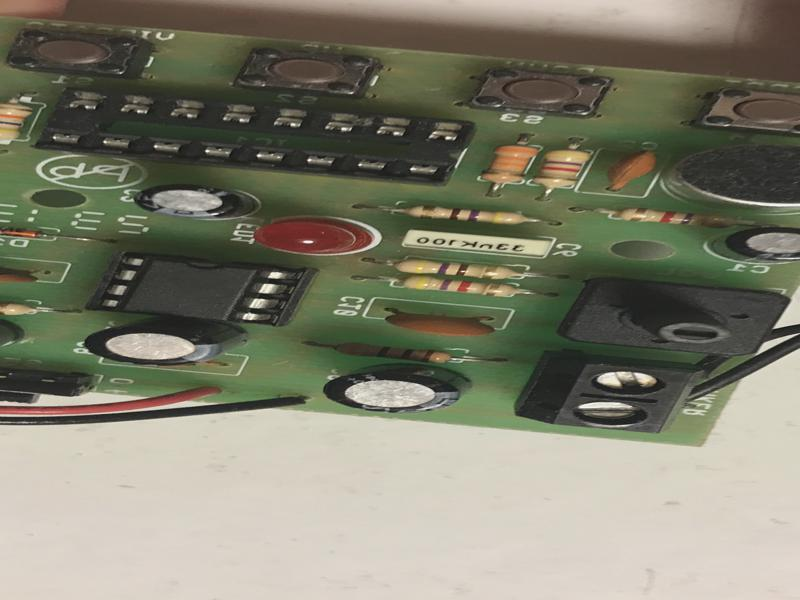Capacitor: (82, 312, 250, 368), (318, 363, 465, 419), (126, 179, 262, 222), (704, 223, 800, 268)
Diode: (1, 223, 60, 241)
LED: (252, 215, 381, 257)
Resistor: (386, 253, 529, 284), (605, 203, 747, 233), (322, 336, 462, 366), (397, 199, 532, 229), (393, 272, 529, 301), (529, 142, 595, 198), (477, 137, 543, 189), (1, 101, 36, 149)
